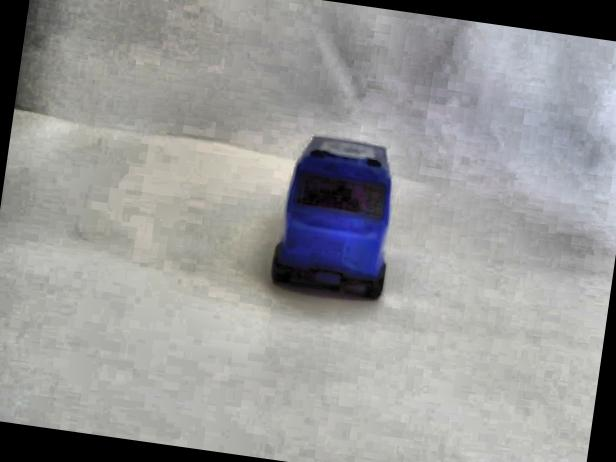police car: (265, 125, 412, 308)
